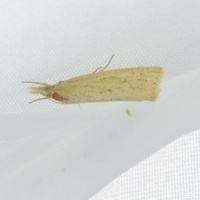insect: (22, 54, 162, 103)
